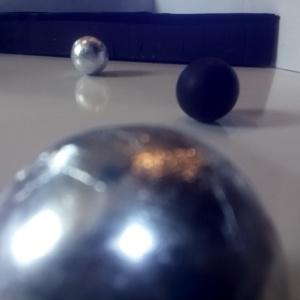zone: (1, 12, 279, 67)
